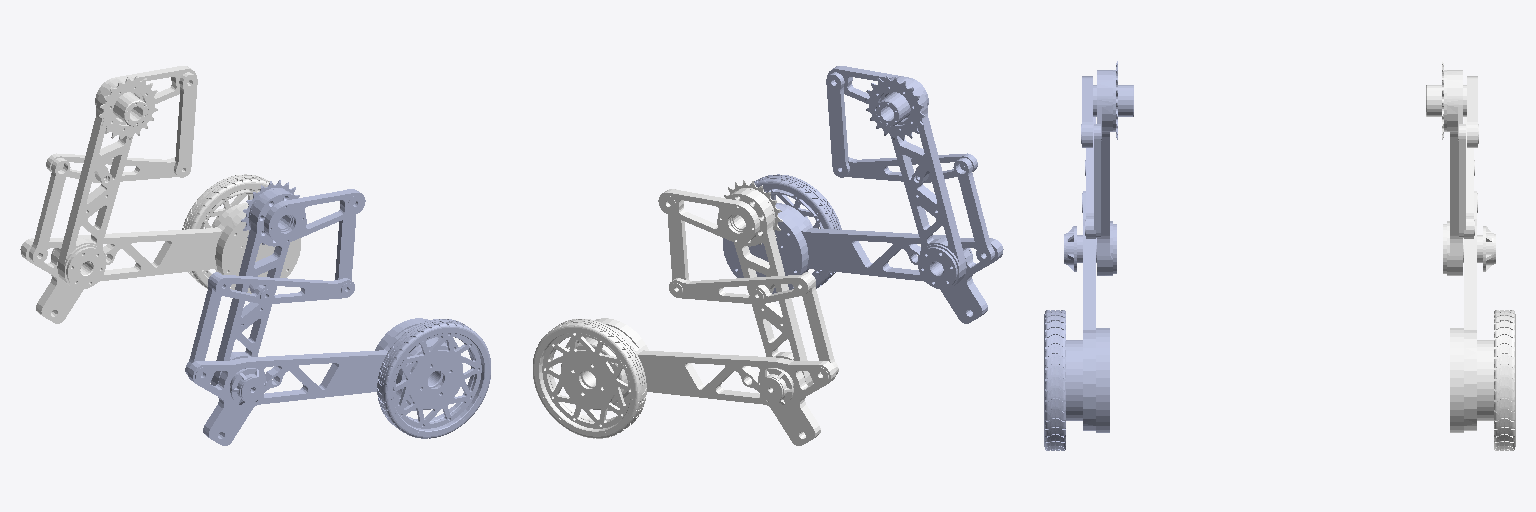
robot.urdf — GBC486.SLDASM:
<?xml version="1.0" encoding="utf-8"?>
<!-- This URDF was automatically created by SolidWorks to URDF Exporter! Originally created by Stephen Brawner (brawner@gmail.com) 
     Commit Version: 1.6.0-4-g7f85cfe  Build Version: 1.6.7995.38578
     For more information, please see http://wiki.ros.org/sw_urdf_exporter -->
<robot
  name="GBC486.SLDASM">
  <link
    name="base_link">
    <inertial>
      <origin
        xyz="-1.46409304608217E-05 -0.0354949144745306 0.0425109333541341"
        rpy="0 0 0" />
      <mass
        value="0.806" />
      <inertia
        ixx="0.0185700998005273"
        ixy="-2.62750312411757E-07"
        ixz="-1.62029599439976E-06"
        iyy="0.0341463030229295"
        iyz="0.00469921323182554"
        izz="0.0312450154488285" />
    </inertial>
    <visual>
      <origin
        xyz="0 0 0"
        rpy="0 0 0" />
      <geometry>
        <mesh
          filename="package://GBC486.SLDASM/meshes/base_link.STL" />
      </geometry>
      <material
        name="">
        <color
          rgba="0.792156862745098 0.819607843137255 0.933333333333333 1" />
      </material>
    </visual>
    <collision>
      <origin
        xyz="0 0 0"
        rpy="0 0 0" />
      <geometry>
        <mesh
          filename="package://GBC486.SLDASM/meshes/base_link.STL" />
      </geometry>
    </collision>
  </link>
  <link
    name="AG">
    <inertial>
      <origin
        xyz="-1.46409304608217E-05 -0.0354949144745306 0.0425109333541341"
        rpy="0 0 0" />
      <mass
        value="0.806" />
      <inertia
        ixx="0.0185700998005273"
        ixy="-2.62750312411757E-07"
        ixz="-1.62029599439976E-06"
        iyy="0.0341463030229295"
        iyz="0.00469921323182554"
        izz="0.0312450154488285" />
    </inertial>
    <visual>
      <origin
        xyz="0 0 0"
        rpy="0 0 0" />
      <geometry>
        <mesh
          filename="package://GBC486.SLDASM/meshes/AG.STL" />
      </geometry>
      <material
        name="">
        <color
          rgba="0.792156862745098 0.819607843137255 0.933333333333333 1" />
      </material>
    </visual>
    <collision>
      <origin
        xyz="0 0 0"
        rpy="0 0 0" />
      <geometry>
        <mesh
          filename="package://GBC486.SLDASM/meshes/AG.STL" />
      </geometry>
    </collision>
  </link>
  <joint
    name="jAG"
    type="revolute">
    <origin
      xyz="-0.01375 -0.1995 0.134"
      rpy="1.5708 0 0" />
    <parent
      link="base_link" />
    <child
      link="AG" />
    <axis
      xyz="0 0 1" />
    <limit
      lower="0"
      upper="0"
      effort="0"
      velocity="0" />
  </joint>
  <link
    name="GH">
    <inertial>
      <origin
        xyz="-1.46409304608217E-05 -0.0354949144745306 0.0425109333541341"
        rpy="0 0 0" />
      <mass
        value="0.806" />
      <inertia
        ixx="0.0185700998005273"
        ixy="-2.62750312411757E-07"
        ixz="-1.62029599439976E-06"
        iyy="0.0341463030229295"
        iyz="0.00469921323182554"
        izz="0.0312450154488285" />
    </inertial>
    <visual>
      <origin
        xyz="0 0 0"
        rpy="0 0 0" />
      <geometry>
        <mesh
          filename="package://GBC486.SLDASM/meshes/GH.STL" />
      </geometry>
      <material
        name="">
        <color
          rgba="0.792156862745098 0.819607843137255 0.933333333333333 1" />
      </material>
    </visual>
    <collision>
      <origin
        xyz="0 0 0"
        rpy="0 0 0" />
      <geometry>
        <mesh
          filename="package://GBC486.SLDASM/meshes/GH.STL" />
      </geometry>
    </collision>
  </link>
  <joint
    name="jGH"
    type="revolute">
    <origin
      xyz="-0.060152 -0.20641 0.0345"
      rpy="0 0 0" />
    <parent
      link="AG" />
    <child
      link="GH" />
    <axis
      xyz="0 0 1" />
    <limit
      lower="0"
      upper="0"
      effort="0"
      velocity="0" />
  </joint>
  <link
    name="wheel_right">
    <inertial>
      <origin
        xyz="-1.46409304608217E-05 -0.0354949144745306 0.0425109333541341"
        rpy="0 0 0" />
      <mass
        value="0.806" />
      <inertia
        ixx="0.0185700998005273"
        ixy="-2.62750312411757E-07"
        ixz="-1.62029599439976E-06"
        iyy="0.0341463030229295"
        iyz="0.00469921323182554"
        izz="0.0312450154488285" />
    </inertial>
    <visual>
      <origin
        xyz="0 0 0"
        rpy="0 0 0" />
      <geometry>
        <mesh
          filename="package://GBC486.SLDASM/meshes/wheel_right.STL" />
      </geometry>
      <material
        name="">
        <color
          rgba="0.792156862745098 0.819607843137255 0.933333333333333 1" />
      </material>
    </visual>
    <collision>
      <origin
        xyz="0 0 0"
        rpy="0 0 0" />
      <geometry>
        <mesh
          filename="package://GBC486.SLDASM/meshes/wheel_right.STL" />
      </geometry>
    </collision>
  </link>
  <joint
    name="jwheel_right"
    type="revolute">
    <origin
      xyz="0.25495 -0.039583 0.0155"
      rpy="0 0 0" />
    <parent
      link="GH" />
    <child
      link="wheel_right" />
    <axis
      xyz="0 0 -1" />
    <limit
      lower="0"
      upper="0"
      effort="0"
      velocity="0" />
  </joint>
  <link
    name="AB">
    <inertial>
      <origin
        xyz="-1.46409304608217E-05 -0.0354949144745306 0.0425109333541341"
        rpy="0 0 0" />
      <mass
        value="0.806" />
      <inertia
        ixx="0.0185700998005273"
        ixy="-2.62750312411757E-07"
        ixz="-1.62029599439976E-06"
        iyy="0.0341463030229295"
        iyz="0.00469921323182554"
        izz="0.0312450154488285" />
    </inertial>
    <visual>
      <origin
        xyz="0 0 0"
        rpy="0 0 0" />
      <geometry>
        <mesh
          filename="package://GBC486.SLDASM/meshes/AB.STL" />
      </geometry>
      <material
        name="">
        <color
          rgba="0.792156862745098 0.819607843137255 0.933333333333333 1" />
      </material>
    </visual>
    <collision>
      <origin
        xyz="0 0 0"
        rpy="0 0 0" />
      <geometry>
        <mesh
          filename="package://GBC486.SLDASM/meshes/AB.STL" />
      </geometry>
    </collision>
  </link>
  <joint
    name="jAB"
    type="revolute">
    <origin
      xyz="-0.01375 -0.2155 0.134"
      rpy="1.5708 0 0" />
    <parent
      link="base_link" />
    <child
      link="AB" />
    <axis
      xyz="0 0 1" />
    <limit
      lower="0"
      upper="0"
      effort="0"
      velocity="0" />
  </joint>
  <link
    name="BE">
    <inertial>
      <origin
        xyz="-1.46409304608217E-05 -0.0354949144745306 0.0425109333541341"
        rpy="0 0 0" />
      <mass
        value="0.806" />
      <inertia
        ixx="0.0185700998005273"
        ixy="-2.62750312411757E-07"
        ixz="-1.62029599439976E-06"
        iyy="0.0341463030229295"
        iyz="0.00469921323182554"
        izz="0.0312450154488285" />
    </inertial>
    <visual>
      <origin
        xyz="0 0 0"
        rpy="0 0 0" />
      <geometry>
        <mesh
          filename="package://GBC486.SLDASM/meshes/BE.STL" />
      </geometry>
      <material
        name="">
        <color
          rgba="0.792156862745098 0.819607843137255 0.933333333333333 1" />
      </material>
    </visual>
    <collision>
      <origin
        xyz="0 0 0"
        rpy="0 0 0" />
      <geometry>
        <mesh
          filename="package://GBC486.SLDASM/meshes/BE.STL" />
      </geometry>
    </collision>
  </link>
  <joint
    name="jBE"
    type="revolute">
    <origin
      xyz="0.097866 0.0051238 -0.013"
      rpy="0 0 0" />
    <parent
      link="AB" />
    <child
      link="BE" />
    <axis
      xyz="0 0 1" />
    <limit
      lower="0"
      upper="0"
      effort="0"
      velocity="0" />
  </joint>
  <link
    name="EC">
    <inertial>
      <origin
        xyz="-1.46409304608217E-05 -0.0354949144745306 0.0425109333541341"
        rpy="0 0 0" />
      <mass
        value="0.806" />
      <inertia
        ixx="0.0185700998005273"
        ixy="-2.62750312411757E-07"
        ixz="-1.62029599439976E-06"
        iyy="0.0341463030229295"
        iyz="0.00469921323182554"
        izz="0.0312450154488285" />
    </inertial>
    <visual>
      <origin
        xyz="0 0 0"
        rpy="0 0 0" />
      <geometry>
        <mesh
          filename="package://GBC486.SLDASM/meshes/EC.STL" />
      </geometry>
      <material
        name="">
        <color
          rgba="0.792156862745098 0.819607843137255 0.933333333333333 1" />
      </material>
    </visual>
    <collision>
      <origin
        xyz="0 0 0"
        rpy="0 0 0" />
      <geometry>
        <mesh
          filename="package://GBC486.SLDASM/meshes/EC.STL" />
      </geometry>
    </collision>
  </link>
  <joint
    name="jEC"
    type="revolute">
    <origin
      xyz="-0.0090761 -0.11725 0.0094"
      rpy="0 0 0" />
    <parent
      link="BE" />
    <child
      link="EC" />
    <axis
      xyz="0 0 -1" />
    <limit
      lower="0"
      upper="0"
      effort="0"
      velocity="0" />
  </joint>
  <link
    name="CF">
    <inertial>
      <origin
        xyz="-1.46409304608217E-05 -0.0354949144745306 0.0425109333541341"
        rpy="0 0 0" />
      <mass
        value="0.806" />
      <inertia
        ixx="0.0185700998005273"
        ixy="-2.62750312411757E-07"
        ixz="-1.62029599439976E-06"
        iyy="0.0341463030229295"
        iyz="0.00469921323182554"
        izz="0.0312450154488285" />
    </inertial>
    <visual>
      <origin
        xyz="0 0 0"
        rpy="0 0 0" />
      <geometry>
        <mesh
          filename="package://GBC486.SLDASM/meshes/CF.STL" />
      </geometry>
      <material
        name="">
        <color
          rgba="0.792156862745098 0.819607843137255 0.933333333333333 1" />
      </material>
    </visual>
    <collision>
      <origin
        xyz="0 0 0"
        rpy="0 0 0" />
      <geometry>
        <mesh
          filename="package://GBC486.SLDASM/meshes/CF.STL" />
      </geometry>
    </collision>
  </link>
  <joint
    name="jCF"
    type="revolute">
    <origin
      xyz="-0.17658 0.044698 -0.0124"
      rpy="0 0 0" />
    <parent
      link="EC" />
    <child
      link="CF" />
    <axis
      xyz="0 0 -1" />
    <limit
      lower="0"
      upper="0"
      effort="0"
      velocity="0" />
  </joint>
  <link
    name="IJ">
    <inertial>
      <origin
        xyz="-1.46409304608217E-05 -0.0354949144745306 0.0425109333541341"
        rpy="0 0 0" />
      <mass
        value="0.806" />
      <inertia
        ixx="0.0185700998005273"
        ixy="-2.62750312411757E-07"
        ixz="-1.62029599439976E-06"
        iyy="0.0341463030229295"
        iyz="0.00469921323182554"
        izz="0.0312450154488285" />
    </inertial>
    <visual>
      <origin
        xyz="0 0 0"
        rpy="0 0 0" />
      <geometry>
        <mesh
          filename="package://GBC486.SLDASM/meshes/IJ.STL" />
      </geometry>
      <material
        name="">
        <color
          rgba="1 1 1 1" />
      </material>
    </visual>
    <collision>
      <origin
        xyz="0 0 0"
        rpy="0 0 0" />
      <geometry>
        <mesh
          filename="package://GBC486.SLDASM/meshes/IJ.STL" />
      </geometry>
    </collision>
  </link>
  <joint
    name="jIJ"
    type="revolute">
    <origin
      xyz="-0.01375 0.2165 0.134"
      rpy="1.5708 0 0" />
    <parent
      link="base_link" />
    <child
      link="IJ" />
    <axis
      xyz="0 0 -1" />
    <limit
      lower="0"
      upper="0"
      effort="0"
      velocity="0" />
  </joint>
  <link
    name="JM">
    <inertial>
      <origin
        xyz="-1.46409304608217E-05 -0.0354949144745306 0.0425109333541341"
        rpy="0 0 0" />
      <mass
        value="0.806" />
      <inertia
        ixx="0.0185700998005273"
        ixy="-2.62750312411757E-07"
        ixz="-1.62029599439976E-06"
        iyy="0.0341463030229295"
        iyz="0.00469921323182554"
        izz="0.0312450154488285" />
    </inertial>
    <visual>
      <origin
        xyz="0 0 0"
        rpy="0 0 0" />
      <geometry>
        <mesh
          filename="package://GBC486.SLDASM/meshes/JM.STL" />
      </geometry>
      <material
        name="">
        <color
          rgba="1 1 1 1" />
      </material>
    </visual>
    <collision>
      <origin
        xyz="0 0 0"
        rpy="0 0 0" />
      <geometry>
        <mesh
          filename="package://GBC486.SLDASM/meshes/JM.STL" />
      </geometry>
    </collision>
  </link>
  <joint
    name="jJM"
    type="revolute">
    <origin
      xyz="0.097866 0.0051238 0.013"
      rpy="0 0 0" />
    <parent
      link="IJ" />
    <child
      link="JM" />
    <axis
      xyz="0 0 -1" />
    <limit
      lower="0"
      upper="0"
      effort="0"
      velocity="0" />
  </joint>
  <link
    name="MK">
    <inertial>
      <origin
        xyz="-1.46409304608217E-05 -0.0354949144745306 0.0425109333541341"
        rpy="0 0 0" />
      <mass
        value="0.806" />
      <inertia
        ixx="0.0185700998005273"
        ixy="-2.62750312411757E-07"
        ixz="-1.62029599439976E-06"
        iyy="0.0341463030229295"
        iyz="0.00469921323182554"
        izz="0.0312450154488285" />
    </inertial>
    <visual>
      <origin
        xyz="0 0 0"
        rpy="0 0 0" />
      <geometry>
        <mesh
          filename="package://GBC486.SLDASM/meshes/MK.STL" />
      </geometry>
      <material
        name="">
        <color
          rgba="1 1 1 1" />
      </material>
    </visual>
    <collision>
      <origin
        xyz="0 0 0"
        rpy="0 0 0" />
      <geometry>
        <mesh
          filename="package://GBC486.SLDASM/meshes/MK.STL" />
      </geometry>
    </collision>
  </link>
  <joint
    name="jMK"
    type="revolute">
    <origin
      xyz="-0.0090761 -0.11725 -0.0094"
      rpy="0 0 0" />
    <parent
      link="JM" />
    <child
      link="MK" />
    <axis
      xyz="0 0 -1" />
    <limit
      lower="0"
      upper="0"
      effort="0"
      velocity="0" />
  </joint>
  <link
    name="KN">
    <inertial>
      <origin
        xyz="-1.46409304608217E-05 -0.0354949144745306 0.0425109333541341"
        rpy="0 0 0" />
      <mass
        value="0.806" />
      <inertia
        ixx="0.0185700998005273"
        ixy="-2.62750312411757E-07"
        ixz="-1.62029599439976E-06"
        iyy="0.0341463030229295"
        iyz="0.00469921323182554"
        izz="0.0312450154488285" />
    </inertial>
    <visual>
      <origin
        xyz="0 0 0"
        rpy="0 0 0" />
      <geometry>
        <mesh
          filename="package://GBC486.SLDASM/meshes/KN.STL" />
      </geometry>
      <material
        name="">
        <color
          rgba="1 1 1 1" />
      </material>
    </visual>
    <collision>
      <origin
        xyz="0 0 0"
        rpy="0 0 0" />
      <geometry>
        <mesh
          filename="package://GBC486.SLDASM/meshes/KN.STL" />
      </geometry>
    </collision>
  </link>
  <joint
    name="jKN"
    type="revolute">
    <origin
      xyz="-0.17658 0.044698 0.0124"
      rpy="0 0 0" />
    <parent
      link="MK" />
    <child
      link="KN" />
    <axis
      xyz="0 0 1" />
    <limit
      lower="0"
      upper="0"
      effort="0"
      velocity="0" />
  </joint>
  <link
    name="IO">
    <inertial>
      <origin
        xyz="-1.46409304608217E-05 -0.0354949144745306 0.0425109333541341"
        rpy="0 0 0" />
      <mass
        value="0.806" />
      <inertia
        ixx="0.0185700998005273"
        ixy="-2.62750312411757E-07"
        ixz="-1.62029599439976E-06"
        iyy="0.0341463030229295"
        iyz="0.00469921323182554"
        izz="0.0312450154488285" />
    </inertial>
    <visual>
      <origin
        xyz="0 0 0"
        rpy="0 0 0" />
      <geometry>
        <mesh
          filename="package://GBC486.SLDASM/meshes/IO.STL" />
      </geometry>
      <material
        name="">
        <color
          rgba="1 1 1 1" />
      </material>
    </visual>
    <collision>
      <origin
        xyz="0 0 0"
        rpy="0 0 0" />
      <geometry>
        <mesh
          filename="package://GBC486.SLDASM/meshes/IO.STL" />
      </geometry>
    </collision>
  </link>
  <joint
    name="jIO"
    type="revolute">
    <origin
      xyz="-0.01375 0.2005 0.134"
      rpy="1.5708 0 0" />
    <parent
      link="base_link" />
    <child
      link="IO" />
    <axis
      xyz="0 0 -1" />
    <limit
      lower="0"
      upper="0"
      effort="0"
      velocity="0" />
  </joint>
  <link
    name="OP">
    <inertial>
      <origin
        xyz="-1.46409304608217E-05 -0.0354949144745306 0.0425109333541341"
        rpy="0 0 0" />
      <mass
        value="0.806" />
      <inertia
        ixx="0.0185700998005273"
        ixy="-2.62750312411757E-07"
        ixz="-1.62029599439976E-06"
        iyy="0.0341463030229295"
        iyz="0.00469921323182554"
        izz="0.0312450154488285" />
    </inertial>
    <visual>
      <origin
        xyz="0 0 0"
        rpy="0 0 0" />
      <geometry>
        <mesh
          filename="package://GBC486.SLDASM/meshes/OP.STL" />
      </geometry>
      <material
        name="">
        <color
          rgba="1 1 1 1" />
      </material>
    </visual>
    <collision>
      <origin
        xyz="0 0 0"
        rpy="0 0 0" />
      <geometry>
        <mesh
          filename="package://GBC486.SLDASM/meshes/OP.STL" />
      </geometry>
    </collision>
  </link>
  <joint
    name="jOP"
    type="revolute">
    <origin
      xyz="-0.060152 -0.20641 -0.0345"
      rpy="0 0 0" />
    <parent
      link="IO" />
    <child
      link="OP" />
    <axis
      xyz="0 0 -1" />
    <limit
      lower="0"
      upper="0"
      effort="0"
      velocity="0" />
  </joint>
  <link
    name="wheel_left">
    <inertial>
      <origin
        xyz="-1.46409304608217E-05 -0.0354949144745306 0.0425109333541341"
        rpy="0 0 0" />
      <mass
        value="0.806" />
      <inertia
        ixx="0.0185700998005273"
        ixy="-2.62750312411757E-07"
        ixz="-1.62029599439976E-06"
        iyy="0.0341463030229295"
        iyz="0.00469921323182554"
        izz="0.0312450154488285" />
    </inertial>
    <visual>
      <origin
        xyz="0 0 0"
        rpy="0 0 0" />
      <geometry>
        <mesh
          filename="package://GBC486.SLDASM/meshes/wheel_left.STL" />
      </geometry>
      <material
        name="">
        <color
          rgba="1 1 1 1" />
      </material>
    </visual>
    <collision>
      <origin
        xyz="0 0 0"
        rpy="0 0 0" />
      <geometry>
        <mesh
          filename="package://GBC486.SLDASM/meshes/wheel_left.STL" />
      </geometry>
    </collision>
  </link>
  <joint
    name="jwheel_left"
    type="revolute">
    <origin
      xyz="0.25495 -0.039576 -0.0155"
      rpy="0 0 0" />
    <parent
      link="OP" />
    <child
      link="wheel_left" />
    <axis
      xyz="0 0 1" />
    <limit
      lower="0"
      upper="0"
      effort="0"
      velocity="0" />
  </joint>
</robot>

--- Render facts (derived) ---
The picture shows the robot from 3 angles, left to right: view 1: azimuth 30°, elevation 25°; view 2: azimuth 150°, elevation 25°; view 3: azimuth 270°, elevation 25°; orthographic projection.
Model GBC486.SLDASM with 15 links and 14 joints (14 revolute), rooted at base_link, posed all joints at 0.
Links seen in each view (by area): view 1: GH, wheel_right, OP, IO, AG, AB, EC, wheel_left, IJ, JM, KN, MK (+2 smaller); view 2: OP, wheel_left, GH, AG, IO, IJ, MK, wheel_right, AB, BE, CF, EC (+2 smaller); view 3: GH, OP, AG, IO, wheel_right, wheel_left, AB, IJ, EC, MK, BE, JM.
Boxes of the visible links, bbox=[...] form: GH: bbox=[188, 318, 462, 445]; wheel_right: bbox=[377, 319, 490, 438]; OP: bbox=[20, 203, 300, 323]; IO: bbox=[57, 76, 158, 289]; AG: bbox=[211, 180, 306, 387]; AB: bbox=[264, 189, 365, 243]; EC: bbox=[212, 275, 354, 304]; wheel_left: bbox=[182, 174, 273, 289]; IJ: bbox=[95, 66, 196, 126]; JM: bbox=[174, 72, 197, 177]; KN: bbox=[29, 158, 70, 263]; MK: bbox=[46, 153, 177, 182]; OP: bbox=[561, 318, 835, 445]; wheel_left: bbox=[533, 319, 646, 438]; GH: bbox=[723, 203, 1003, 323]; AG: bbox=[865, 76, 966, 289]; IO: bbox=[717, 180, 812, 387]; IJ: bbox=[658, 189, 759, 243]; MK: bbox=[669, 275, 811, 304]; wheel_right: bbox=[750, 174, 841, 289]; AB: bbox=[827, 66, 928, 126]; BE: bbox=[826, 72, 849, 177]; CF: bbox=[953, 158, 994, 263]; EC: bbox=[846, 153, 977, 182]; GH: bbox=[1064, 191, 1109, 432]; OP: bbox=[1450, 191, 1495, 432]; AG: bbox=[1077, 61, 1117, 275]; IO: bbox=[1442, 61, 1482, 275]; wheel_right: bbox=[1044, 310, 1065, 450]; wheel_left: bbox=[1494, 310, 1515, 450]; AB: bbox=[1081, 76, 1133, 147]; IJ: bbox=[1426, 76, 1478, 147]; EC: bbox=[1085, 117, 1095, 238]; MK: bbox=[1464, 117, 1474, 238]; BE: bbox=[1094, 124, 1100, 237]; JM: bbox=[1459, 124, 1465, 237].
Bounding box of the posed robot: 0.4062 × 0.514 × 0.3665 m (x, y, z).
Meshes: 15 distinct files referenced, 14 mesh visuals loaded (14 binary STL); not drawn: 1 (reference not matched to a file when rendering).
